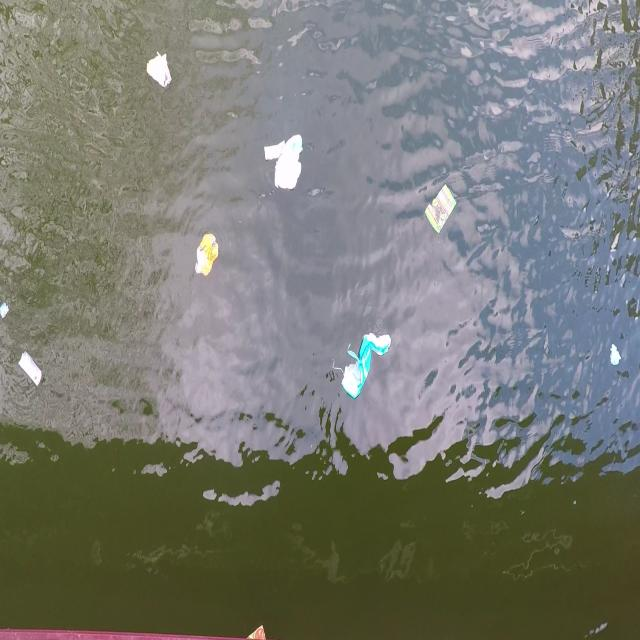Autre plastique: (424, 179, 461, 241)
Sac plastique: (329, 321, 395, 404), (268, 132, 304, 192), (192, 227, 224, 286), (143, 49, 176, 92)
